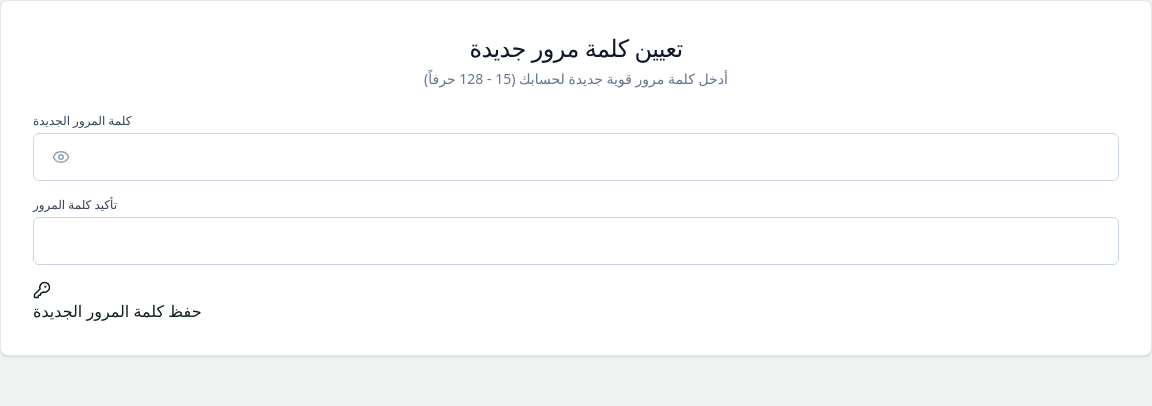
Test: US4 recovery › previews without consumption, cleans the URL and succeeds only after explicit reset
Expected: the button "حفظ كلمة المرور الجديدة" is enabled, [33,281,202,323]
In the password field labelled "كلمة المرور الجديدة": (576, 157) [33,133,1119,181], type "US4 new password!"
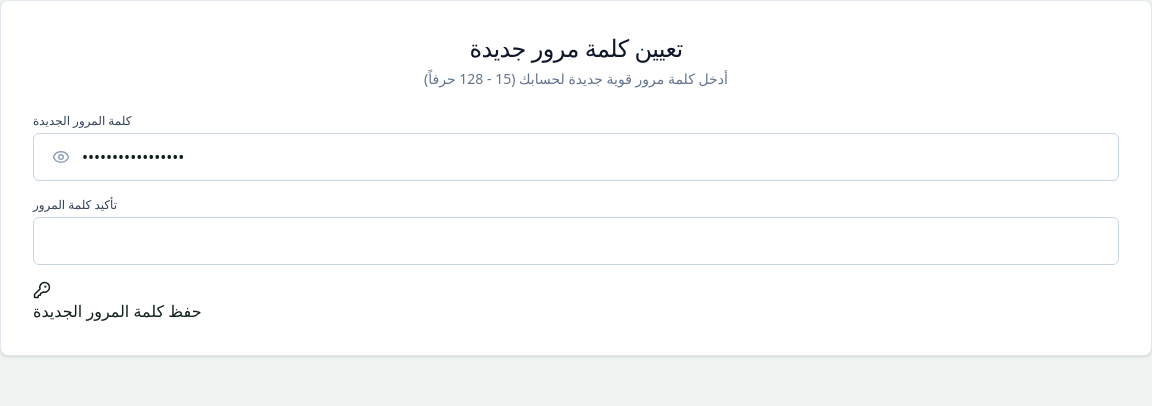
In the password field labelled "تأكيد كلمة المرور": (576, 241) [33,217,1119,265], type "mismatch"
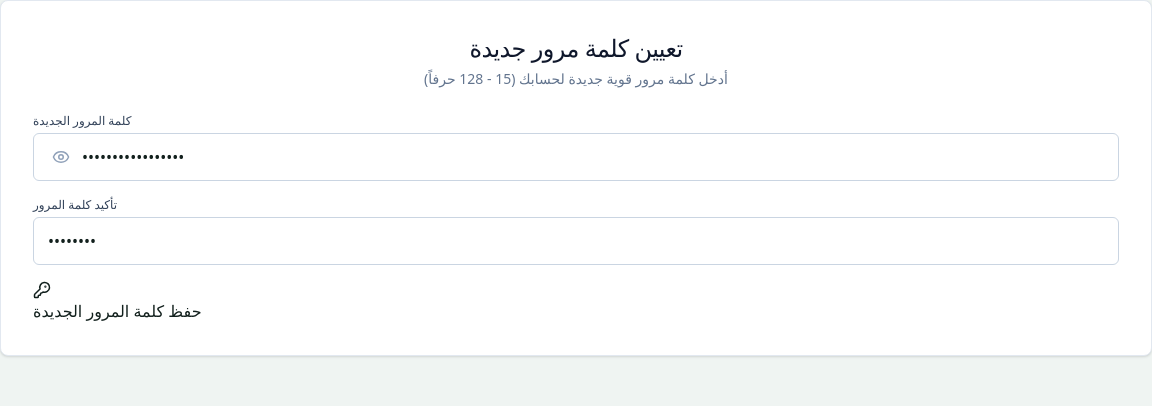
Submit the form "حفظ كلمة المرور الجديدة", box [33,113,1119,323]
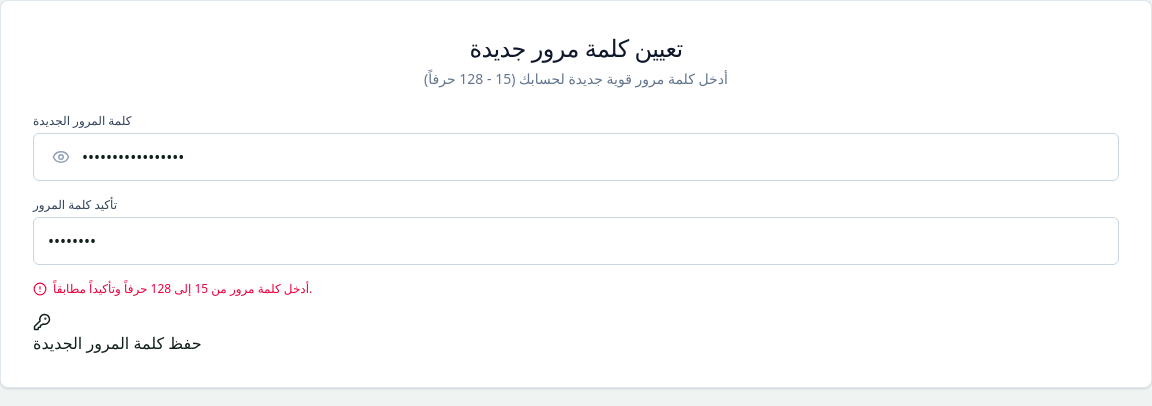
In the password field labelled "تأكيد كلمة المرور": (576, 241) [33,217,1119,265], type "US4 new password!"
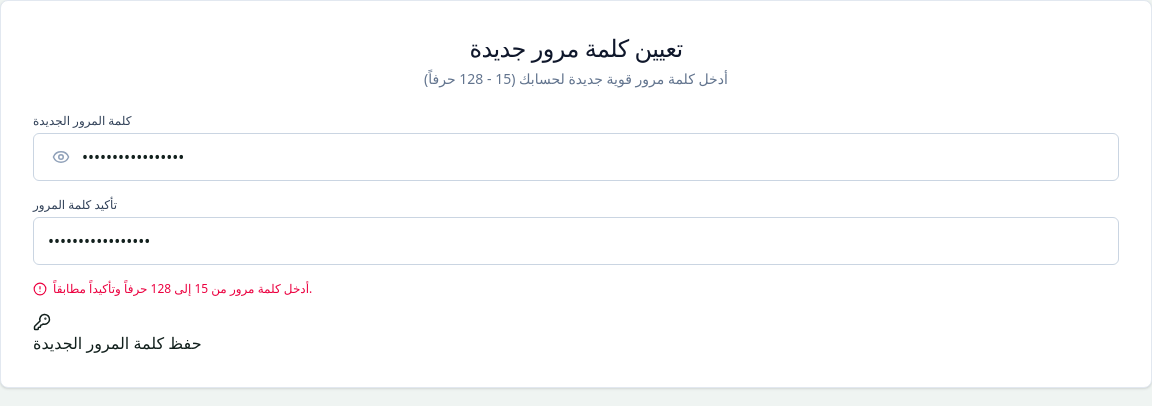
Submit the form named "حفظ كلمة المرور الجديدة", box [33,113,1119,355]
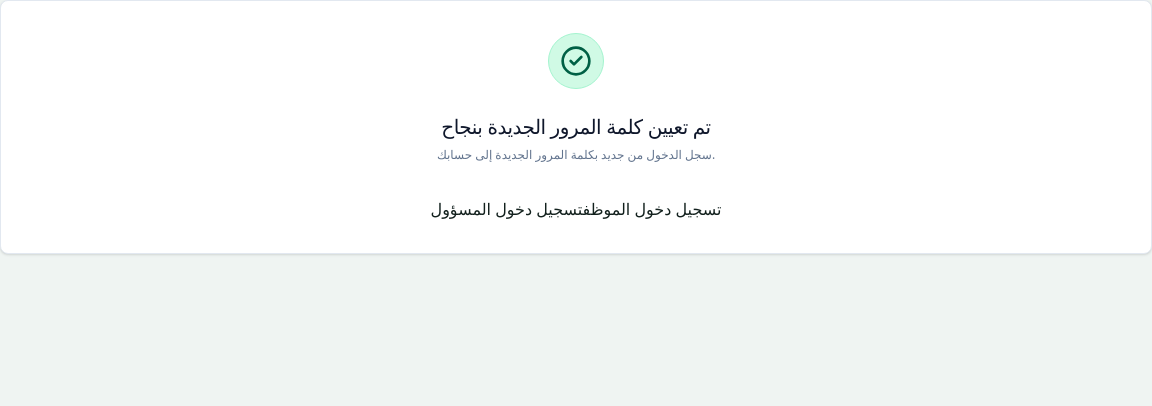
Result: the heading "تم تعيين كلمة المرور الجديدة بنجاح" is shown at [441,116,711,138]
